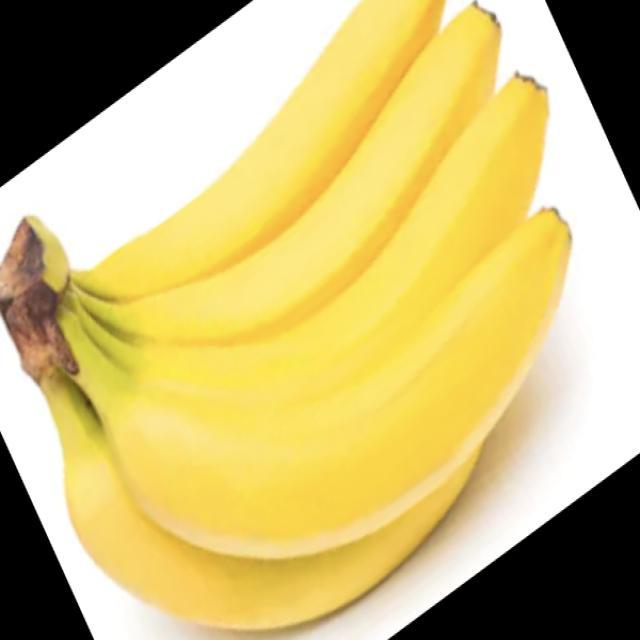Banana: (0, 0, 573, 632)
